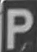Parking: (1, 2, 34, 48)
